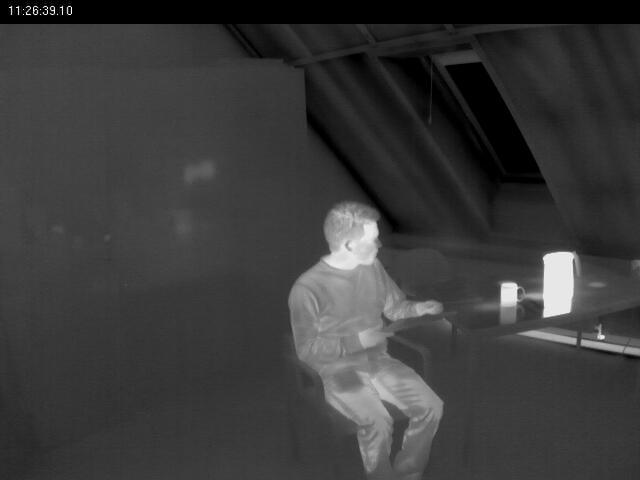person: (286, 196, 456, 480)
